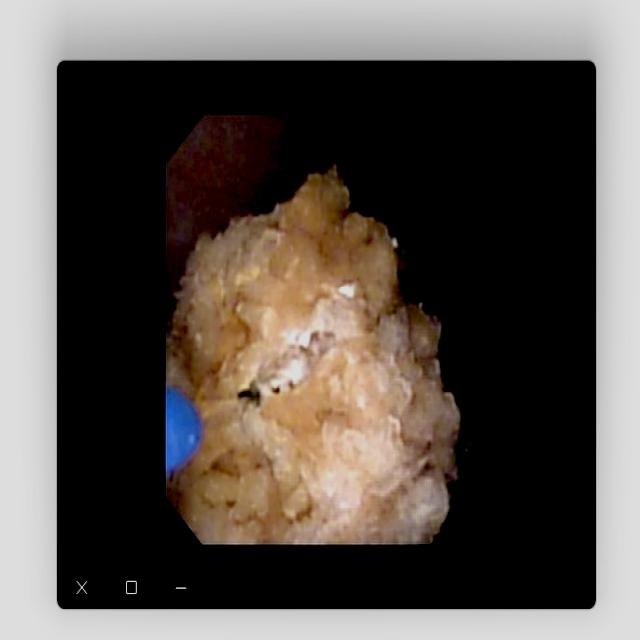fiber: (168, 391, 198, 467)
stone: (171, 171, 459, 538)
